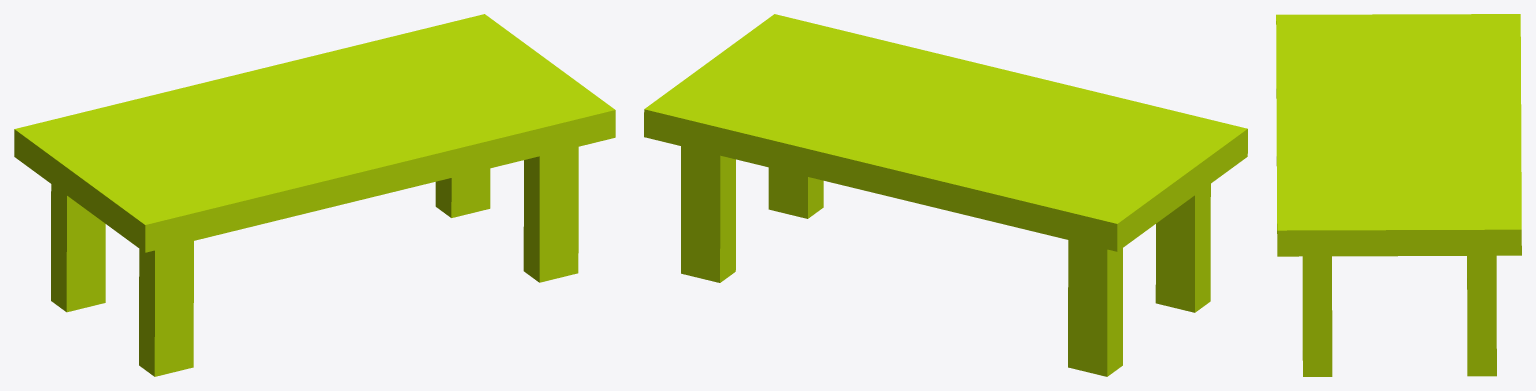
File: table.fbx
3 views of the same model, side by side, from view 1: azimuth 30°, elevation 25°; view 2: azimuth 150°, elevation 25°; view 3: azimuth 270°, elevation 25° (orthographic). The views are drawn at different scales.
Visible parts, largest first — view 1: Cube.003; view 2: Cube.003; view 3: Cube.003.
Boxes of the visible parts, x1,y1,x2,y2 form: Cube.003: [14, 14, 615, 376]; Cube.003: [644, 14, 1247, 376]; Cube.003: [1276, 14, 1521, 376].
Bounding box in the file's own units: 417 × 143 × 201.
